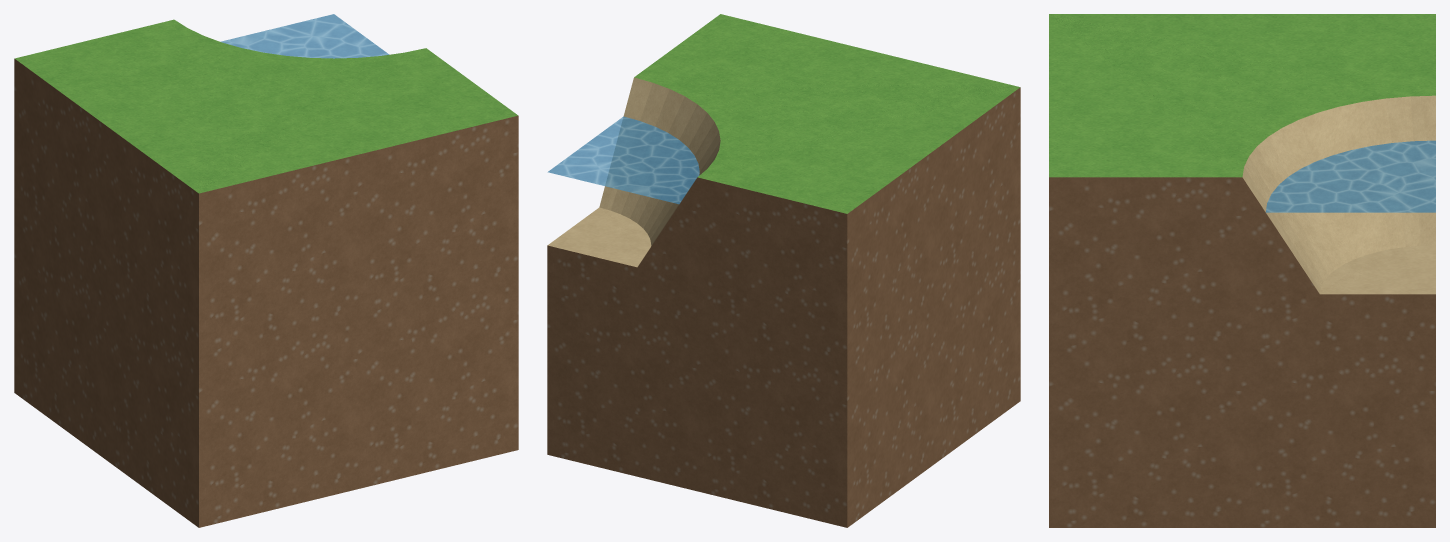
File: Water_OuterCorner_F.fbx
3 renders of one model, left to right at view 1: azimuth 30°, elevation 25°; view 2: azimuth 150°, elevation 25°; view 3: azimuth 270°, elevation 25°, orthographic. The views are drawn at different scales.
Visible parts, largest first — view 1: Water_OuterCorner_F, Water_OuterCorner_F_Water; view 2: Water_OuterCorner_F, Water_OuterCorner_F_Water; view 3: Water_OuterCorner_F, Water_OuterCorner_F_Water.
Part boxes in pixels (box(x1,y1,x2,y2)): Water_OuterCorner_F: box(14, 19, 518, 527); Water_OuterCorner_F_Water: box(220, 14, 388, 58); Water_OuterCorner_F: box(547, 14, 1020, 527); Water_OuterCorner_F_Water: box(547, 116, 699, 204); Water_OuterCorner_F: box(1049, 14, 1435, 527); Water_OuterCorner_F_Water: box(1265, 140, 1435, 212).
Bounding box in the file's own units: 3 × 3 × 3.
4 materials, 4 textured.
